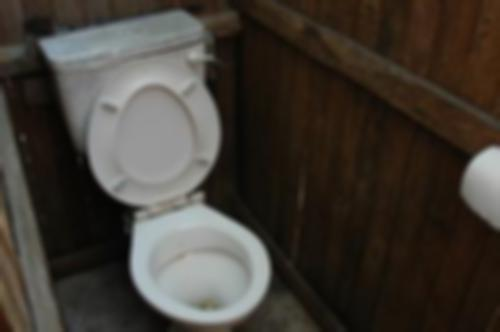Sanitario: (41, 21, 271, 332)
